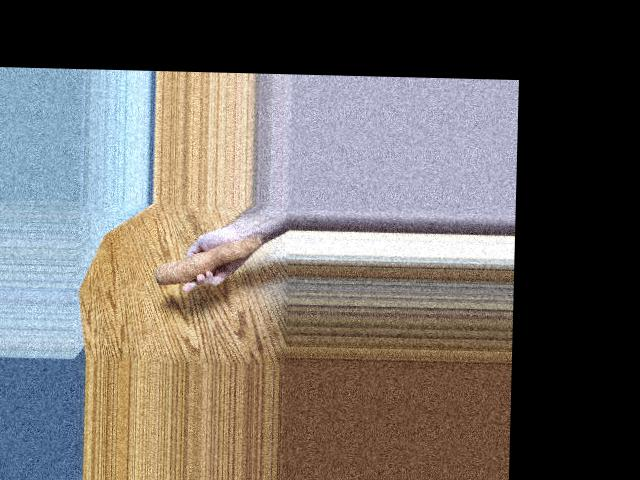sweet_potato: (158, 232, 262, 280)
